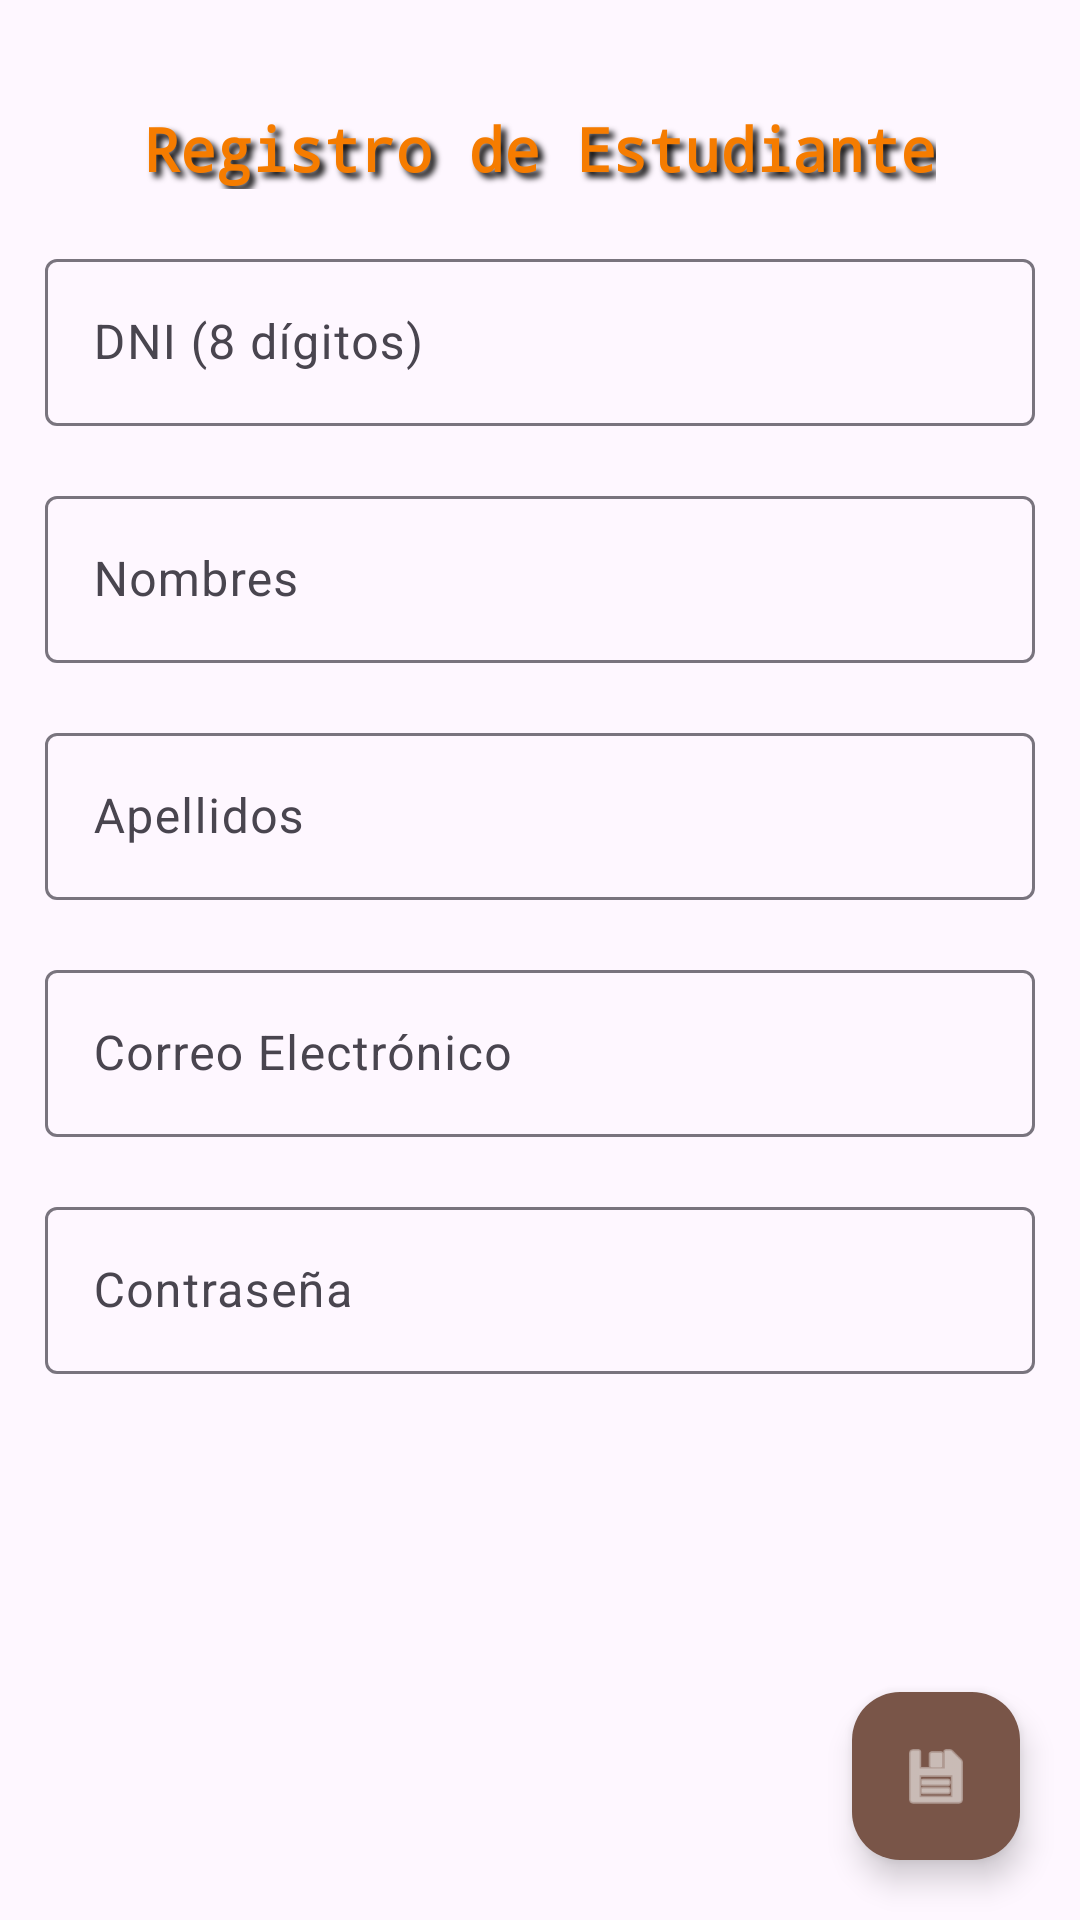

Named icons in this screenshot (1080 x 1920) and their bounding boxes, (x1, y1, x2, y2):
save: (852, 1692, 1020, 1860)
